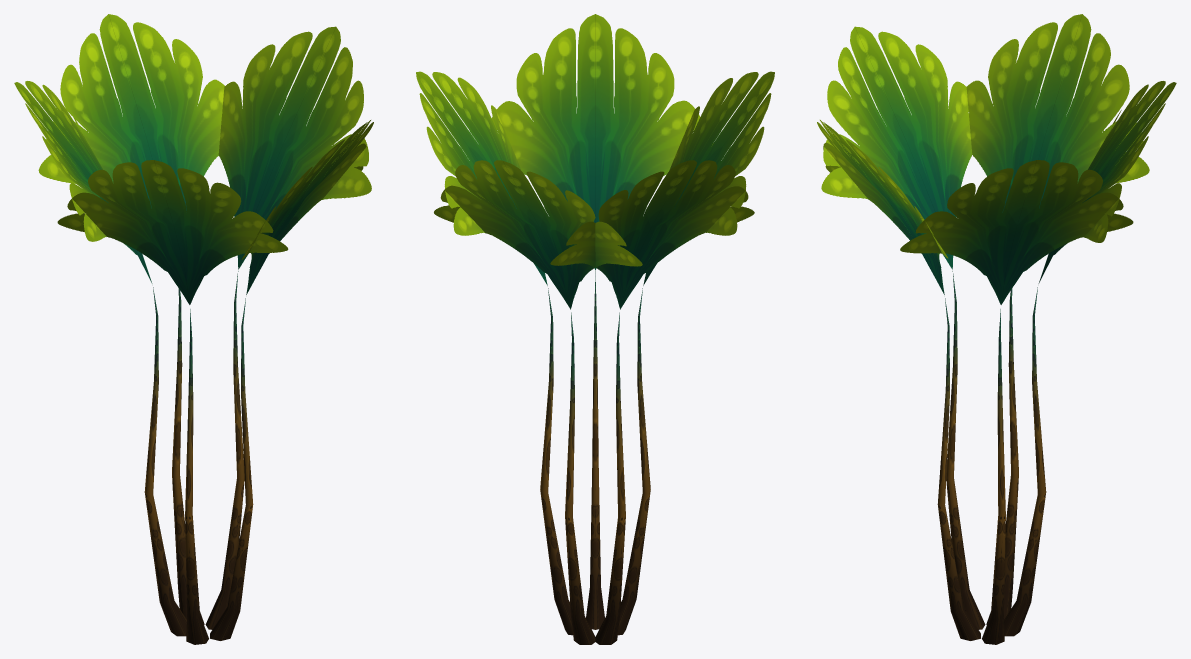
Rendered from Green_Tree_07c.FBX.
3 renders of one model, left to right at view 1: azimuth 30°, elevation 25°; view 2: azimuth 150°, elevation 25°; view 3: azimuth 270°, elevation 25°, orthographic.
Visible parts, largest first — view 1: Green_Tree_07c; view 2: Green_Tree_07c; view 3: Green_Tree_07c.
Boxes of the visible parts, x1=… form: Green_Tree_07c: x1=14, y1=14, x2=373, y2=644; Green_Tree_07c: x1=416, y1=14, x2=774, y2=644; Green_Tree_07c: x1=817, y1=14, x2=1176, y2=644.
Size of the model in its own units: 141 by 233 by 143.
